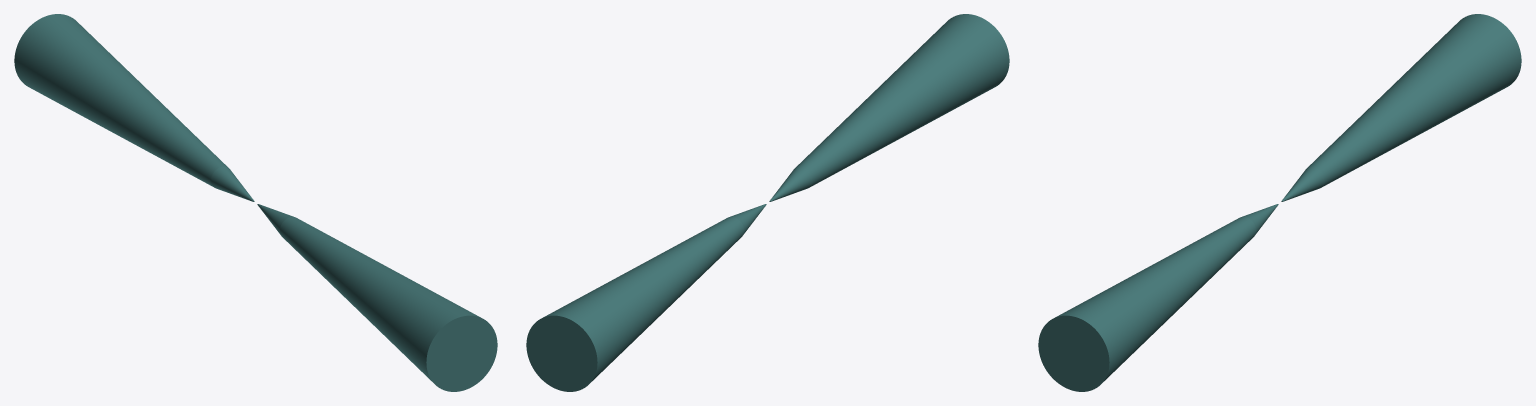
File: Nozzle.gltf
3 views of the same model, side by side, from view 1: azimuth 30°, elevation 25°; view 2: azimuth 150°, elevation 25°; view 3: azimuth 330°, elevation 25° (orthographic).
Parts seen in each view (by area): view 1: Cylinder.001; view 2: Cylinder.001; view 3: Cylinder.001.
Boxes of the visible parts, bbox=[...] form: Cylinder.001: bbox=[14, 14, 497, 391]; Cylinder.001: bbox=[526, 14, 1009, 391]; Cylinder.001: bbox=[1038, 14, 1521, 391].
Size of the model in its own units: 1.19 by 1.19 by 11.99.
